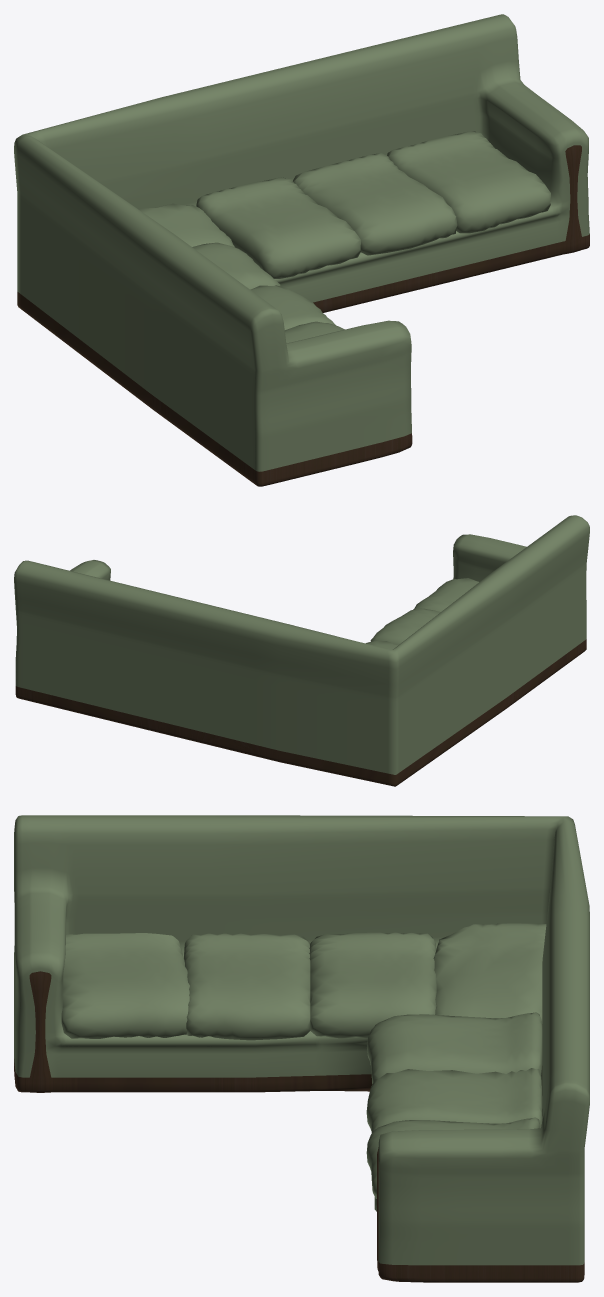
File: couch_corner.glb
The picture shows the model from 3 angles, top to bottom: view 1: azimuth 30°, elevation 25°; view 2: azimuth 150°, elevation 25°; view 3: azimuth 270°, elevation 25°; orthographic projection. The views are drawn at different scales.
Parts seen in each view (by area): view 1: CouchCorner; view 2: CouchCorner; view 3: CouchCorner.
Part boxes in pixels (left/top/right/bottom): CouchCorner: left=14, top=14, right=589, bottom=486; CouchCorner: left=14, top=515, right=589, bottom=786; CouchCorner: left=14, top=815, right=589, bottom=1282.
Bounding box in the file's own units: 3.83 × 1.28 × 3.36.
2 materials, 1 textured.
